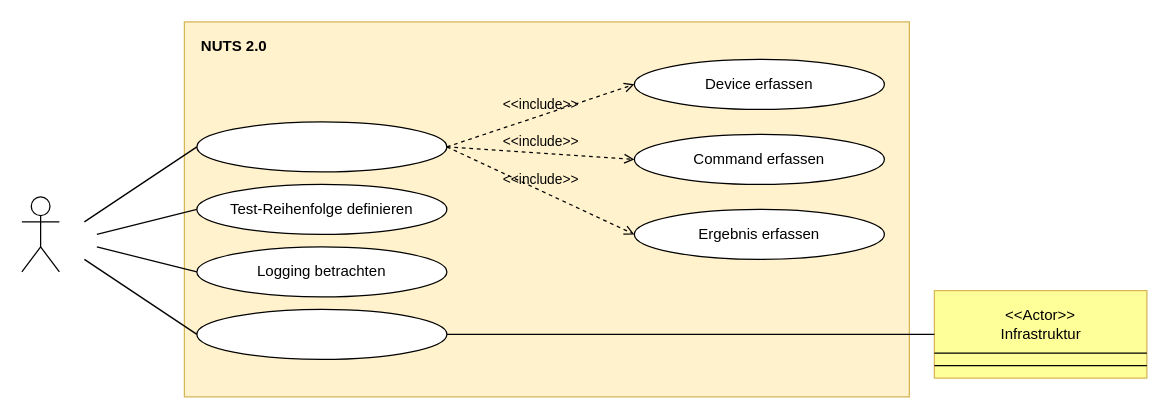
Some shapes in this 1170 by 419 pixel diagram are drawn without their labels. The centre of each missing label's shape, as x and y in pixels:
Test ausführen: the point at 321,333
Test CRUD: the point at 321,146
User: the point at 40,234
